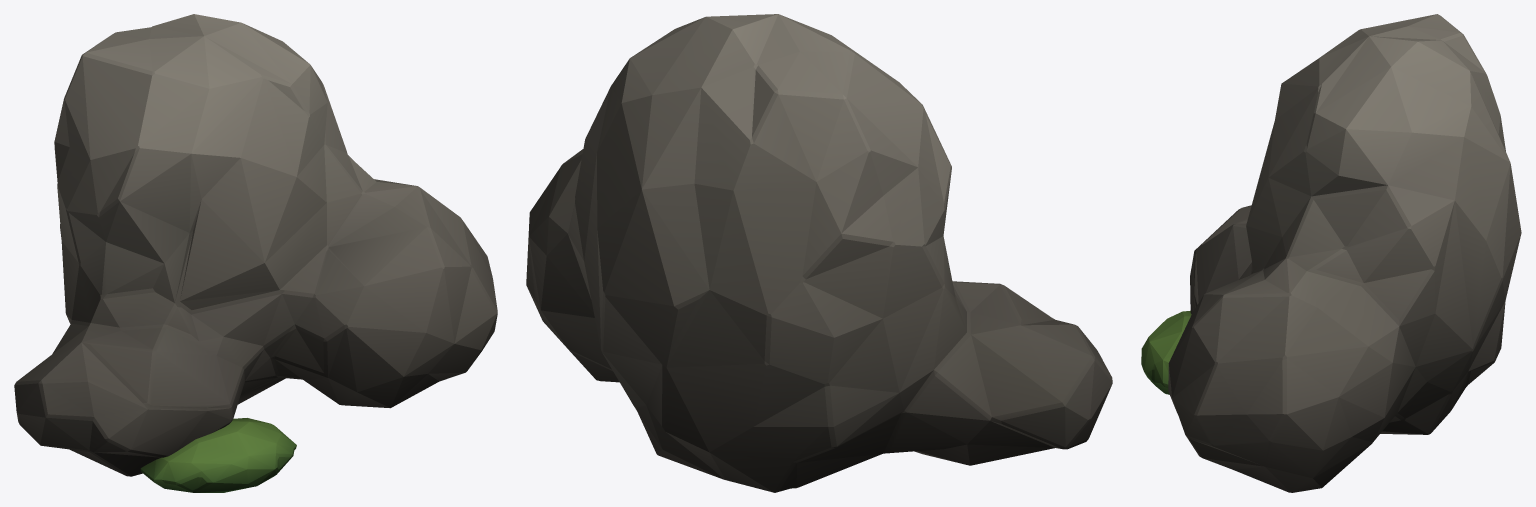
Rendered from skala_1_2.glb.
The picture shows the model from 3 angles, left to right: view 1: azimuth 30°, elevation 25°; view 2: azimuth 150°, elevation 25°; view 3: azimuth 270°, elevation 25°; orthographic projection. The views are drawn at different scales.
Visible parts, largest first — view 1: skala_1_2; view 2: skala_1_2; view 3: skala_1_2.
Boxes of the visible parts, box(x1,y1,x2,y2) form: skala_1_2: box(14, 14, 497, 492); skala_1_2: box(526, 14, 1112, 492); skala_1_2: box(1141, 14, 1521, 492).
Size of the model in its own units: 1.6 by 1.26 by 1.11.
